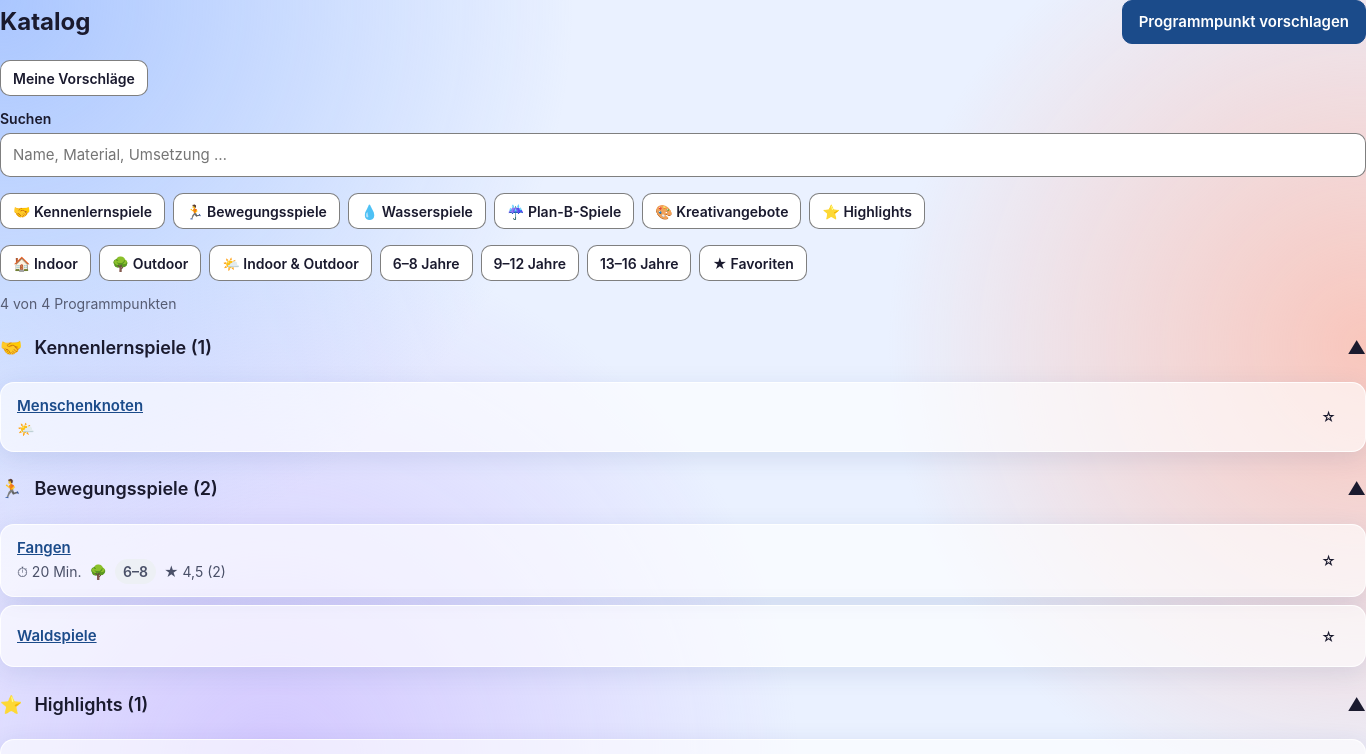
Test: Katalog: Liste › Kategorien lassen sich einklappen
expect the link "Fangen" is shown: met, box [17, 536, 71, 559]
Click the button "🏃 Bewegungsspiele (2) ▲".
click(111, 489)  # box [0, 468, 1365, 512]
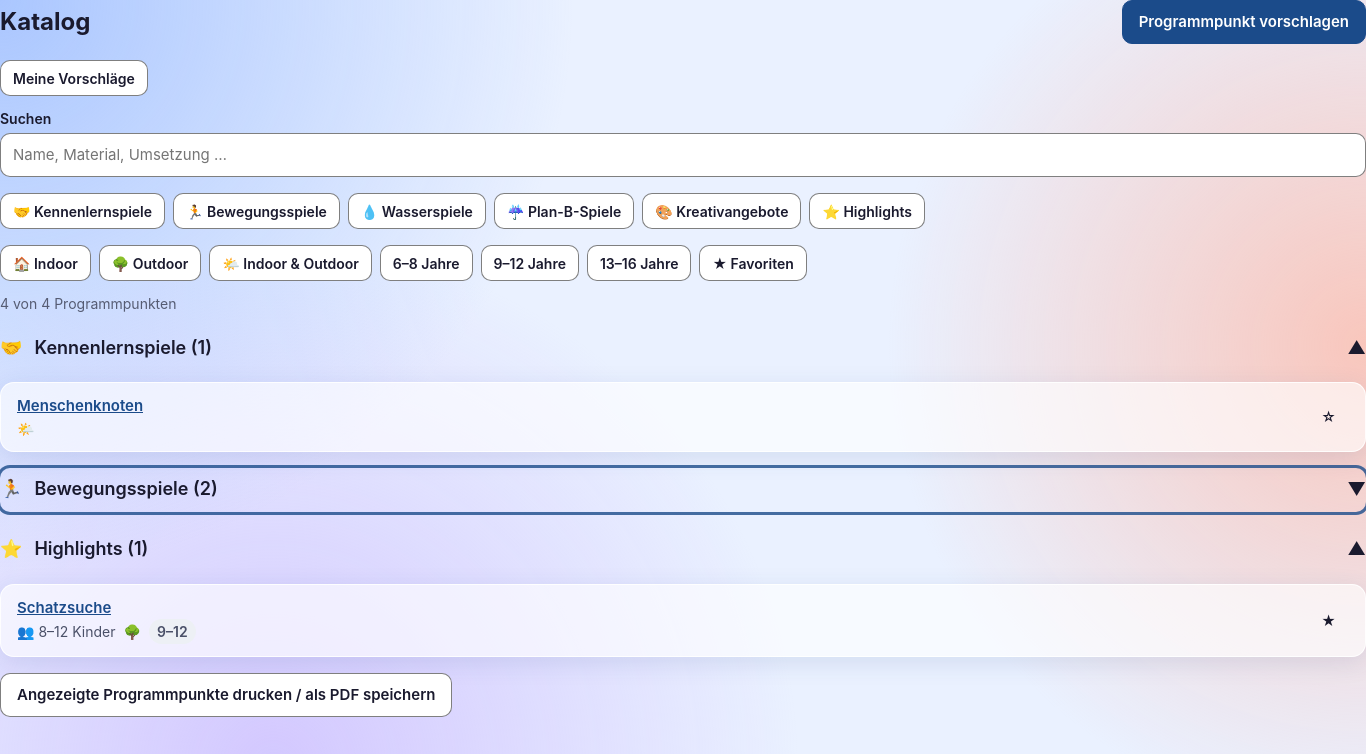
expect the link "Fangen" is gone: met
expect the button "🏃 Bewegungsspiele (2) ▼" is collapsed: met
Click the button "🏃 Bewegungsspiele (2) ▼".
click(111, 489)  # box [0, 468, 1365, 512]
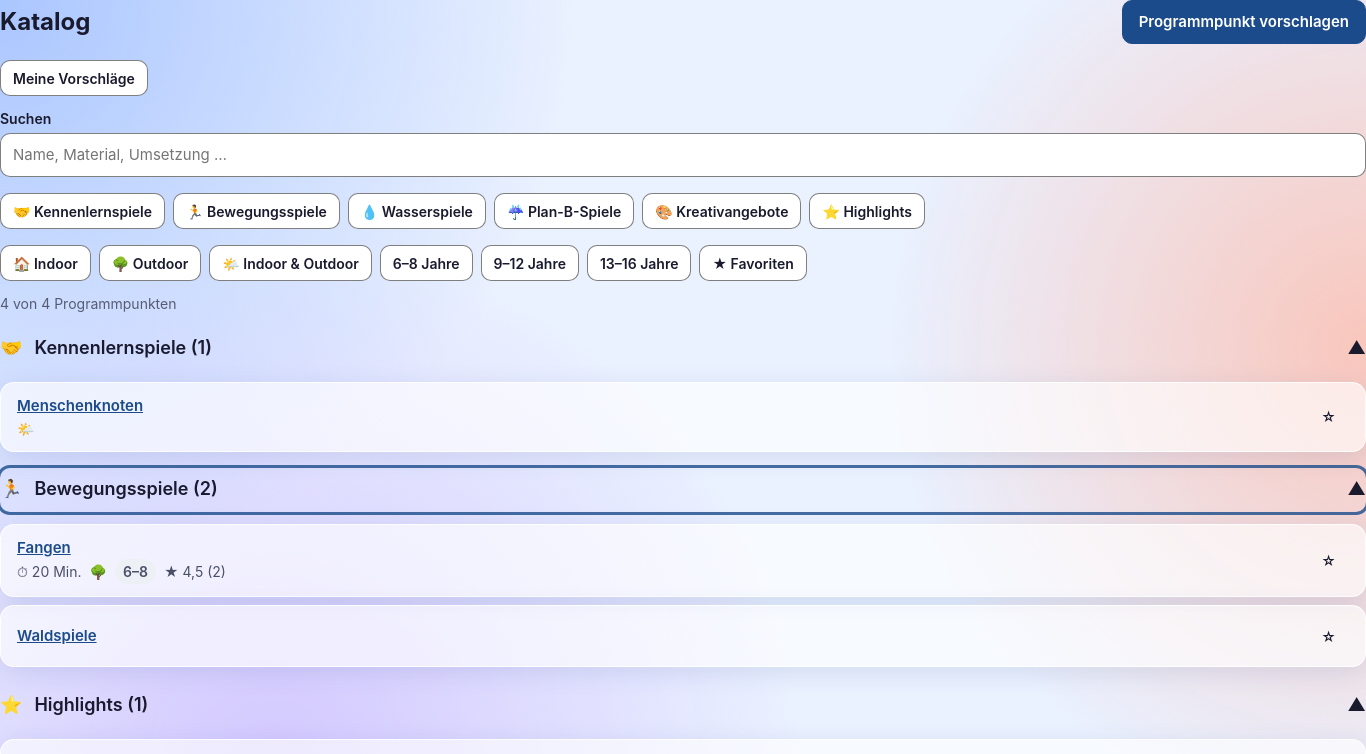
expect the link "Fangen" is shown: met, box [17, 536, 71, 559]
